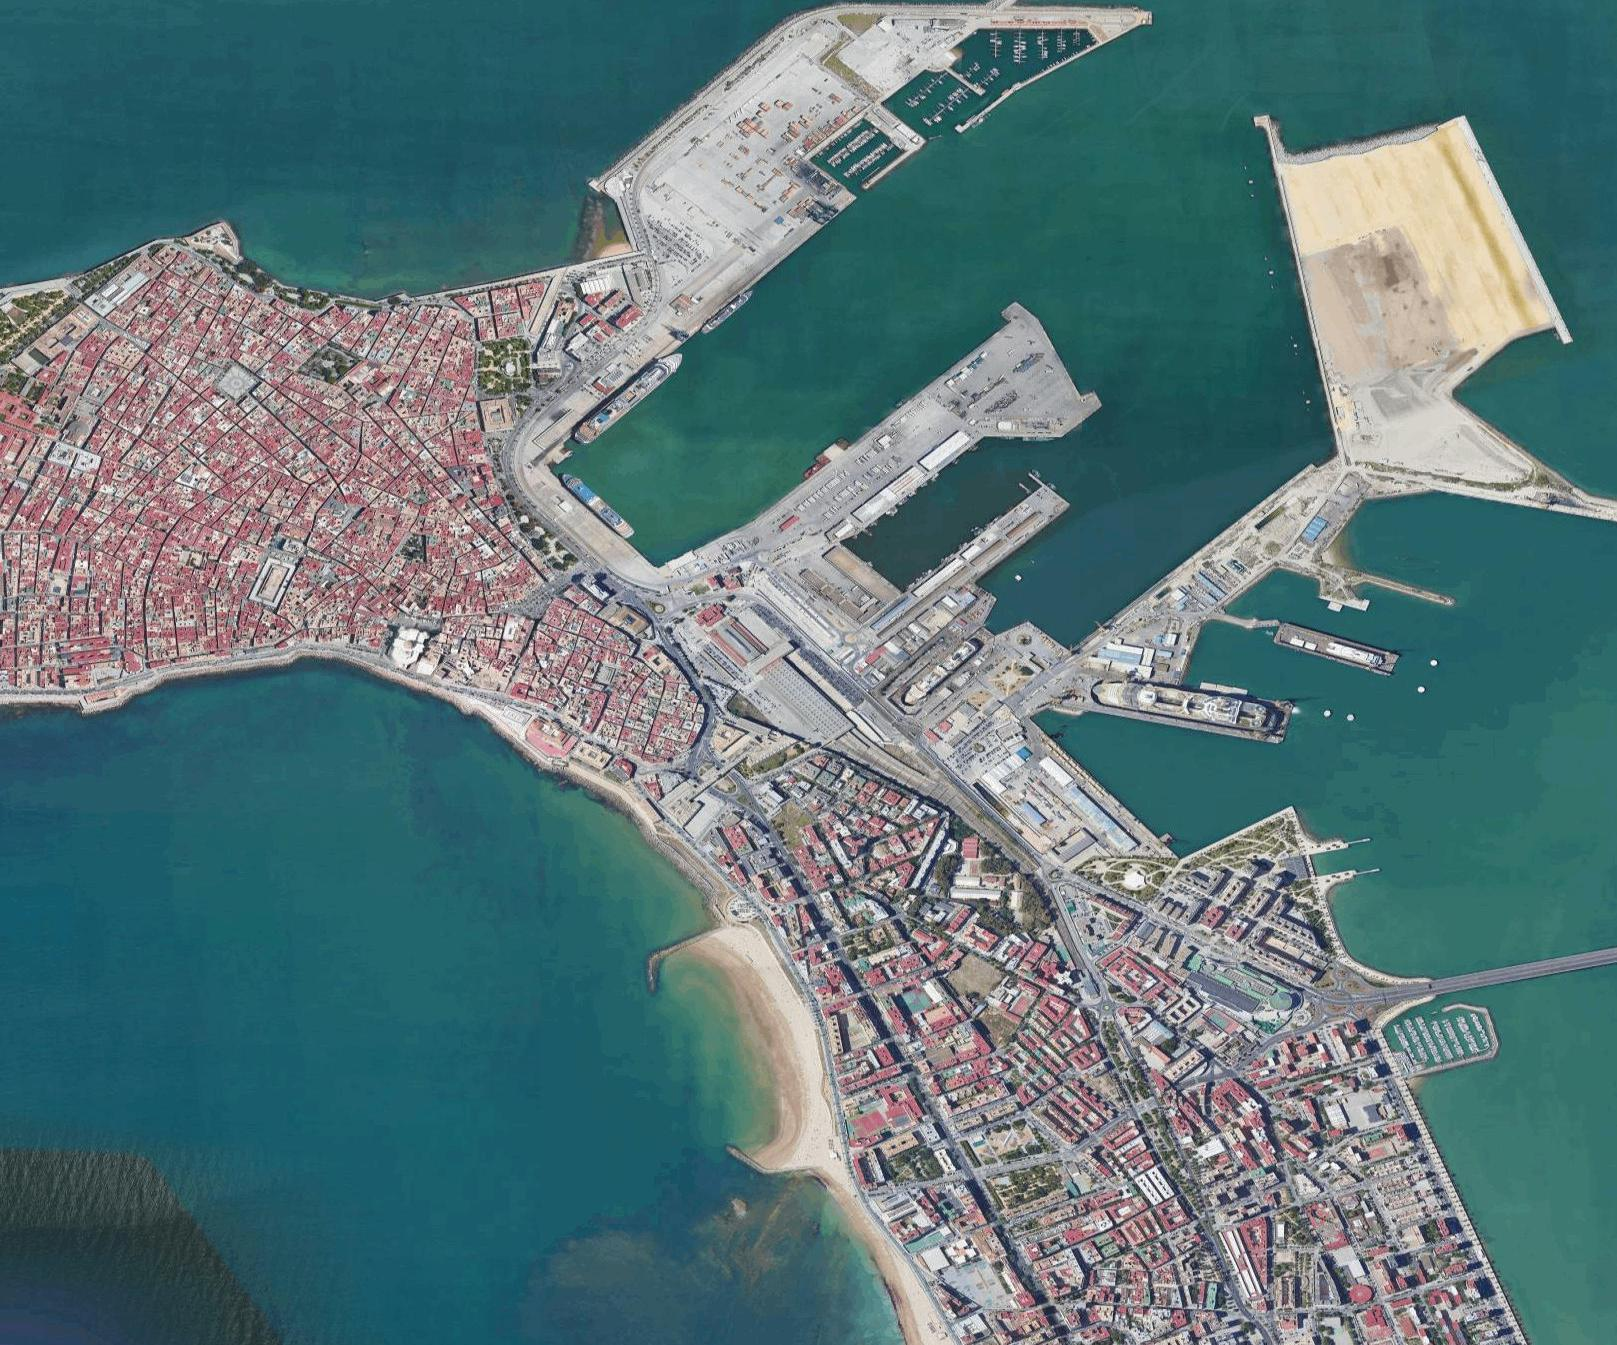harbor: (508, 1, 1617, 759)
train_station: (674, 584, 888, 761)
